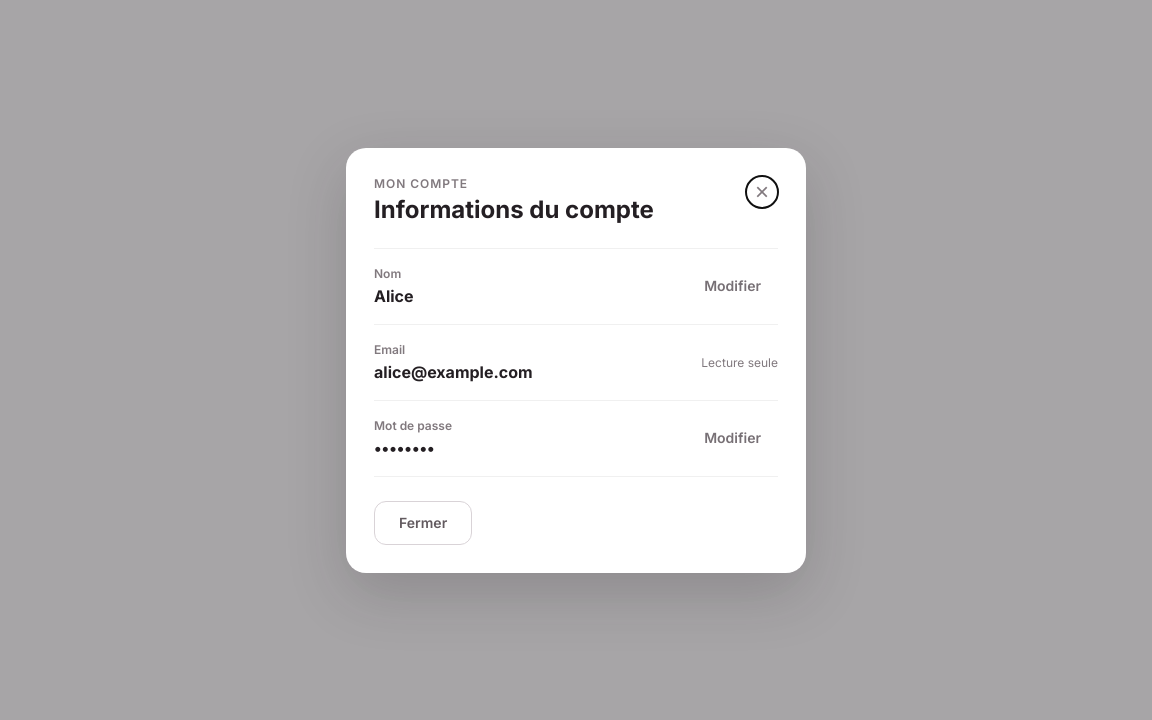
Test: AccountInfoModal › valide la confirmation et efface les mots de passe après un succès
Click the button "Modifier" in the row of "Mot de passe" at (733, 438), box x1=687 y1=416 x2=778 y2=460
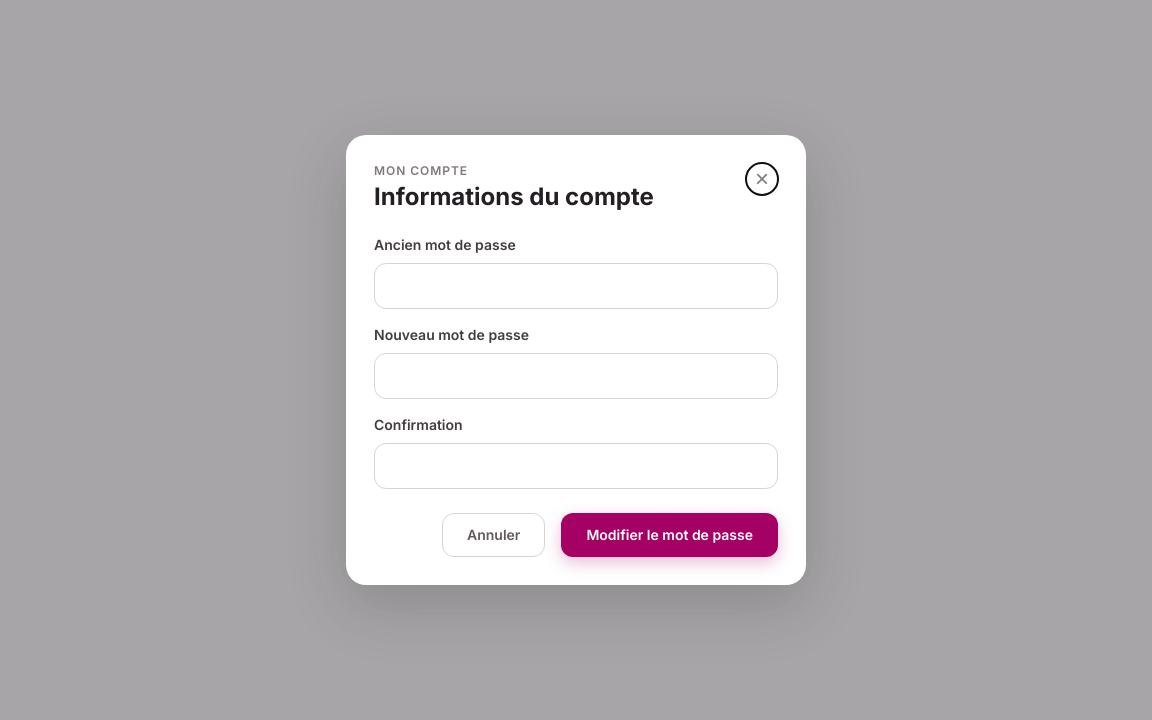
Type "ancien" into the password field labelled "Ancien mot de passe" at (576, 286), box x1=374 y1=263 x2=778 y2=309
Type "nouveau123" into the password field labelled "Nouveau mot de passe" at (576, 376), box x1=374 y1=353 x2=778 y2=399
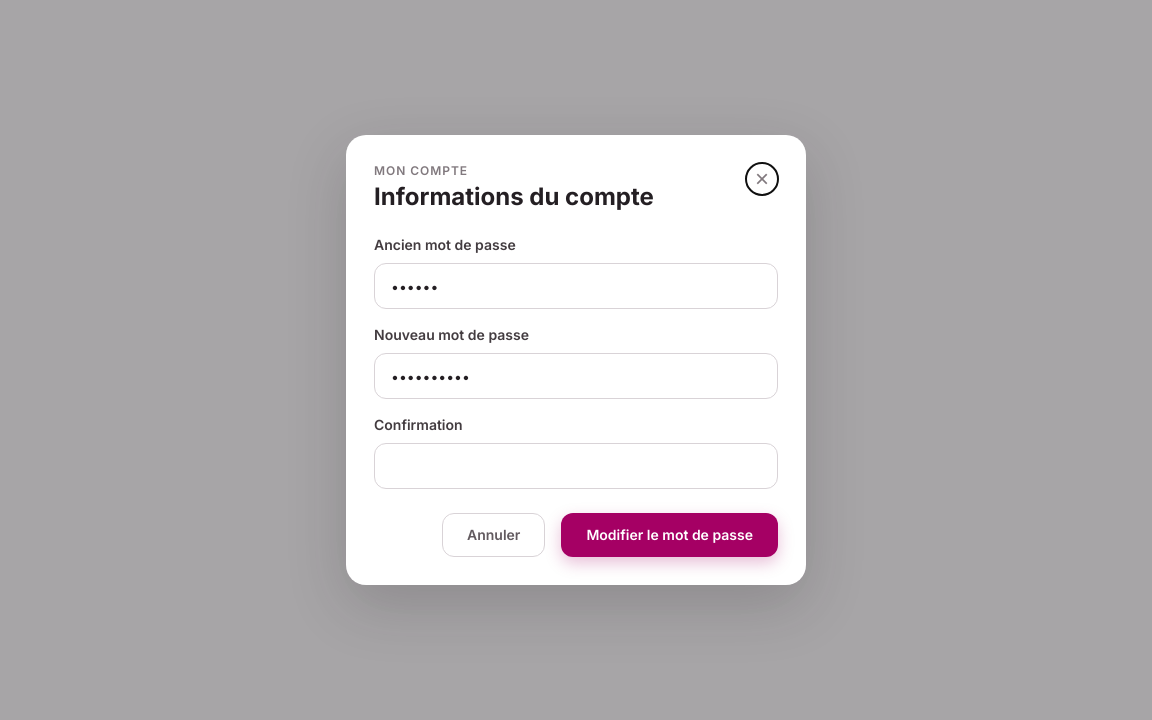
Type "different" into the password field labelled "Confirmation" at (576, 466), box x1=374 y1=443 x2=778 y2=489
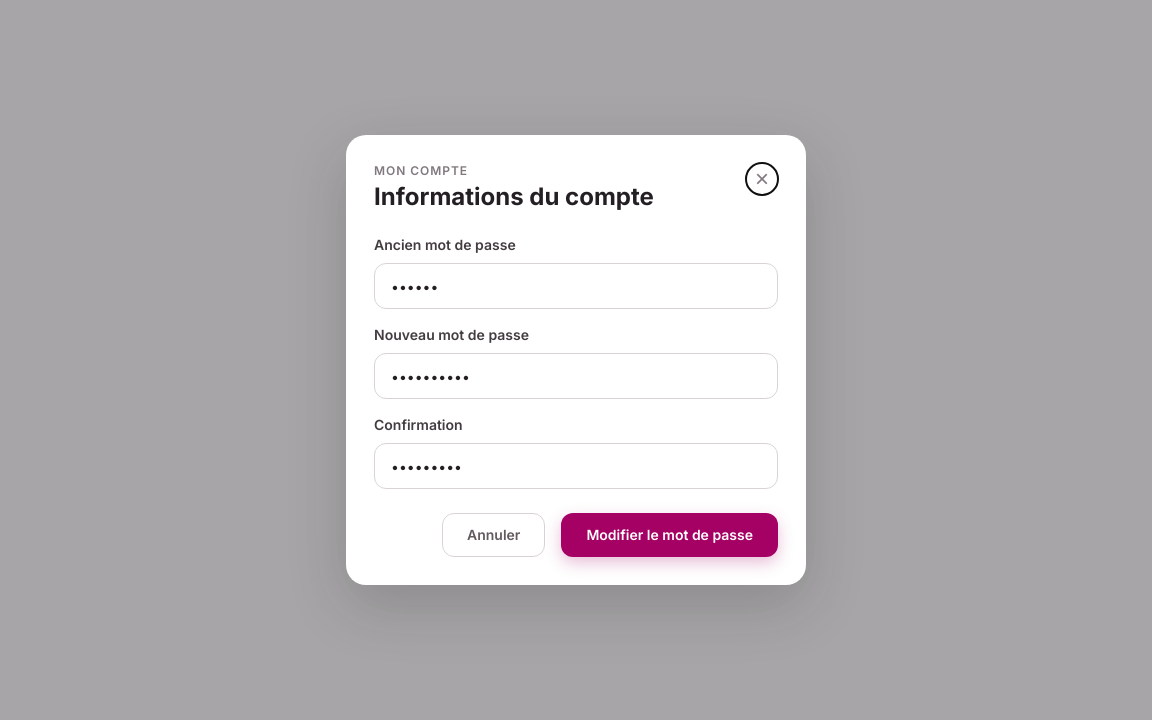
Click the button "Modifier le mot de passe" at (670, 535), box x1=561 y1=513 x2=778 y2=557
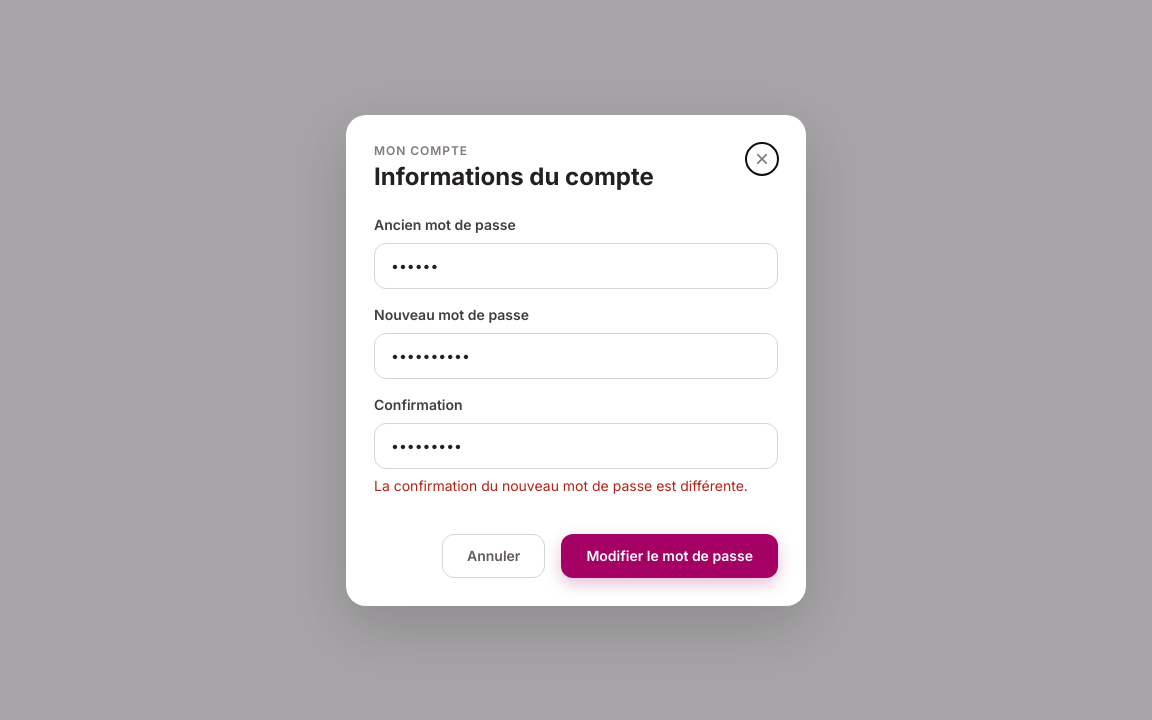
Result: the message shows "confirmation" at x1=374 y1=476 x2=748 y2=494
Type "nouveau123" into the password field labelled "Confirmation" at (576, 446), box x1=374 y1=422 x2=778 y2=468
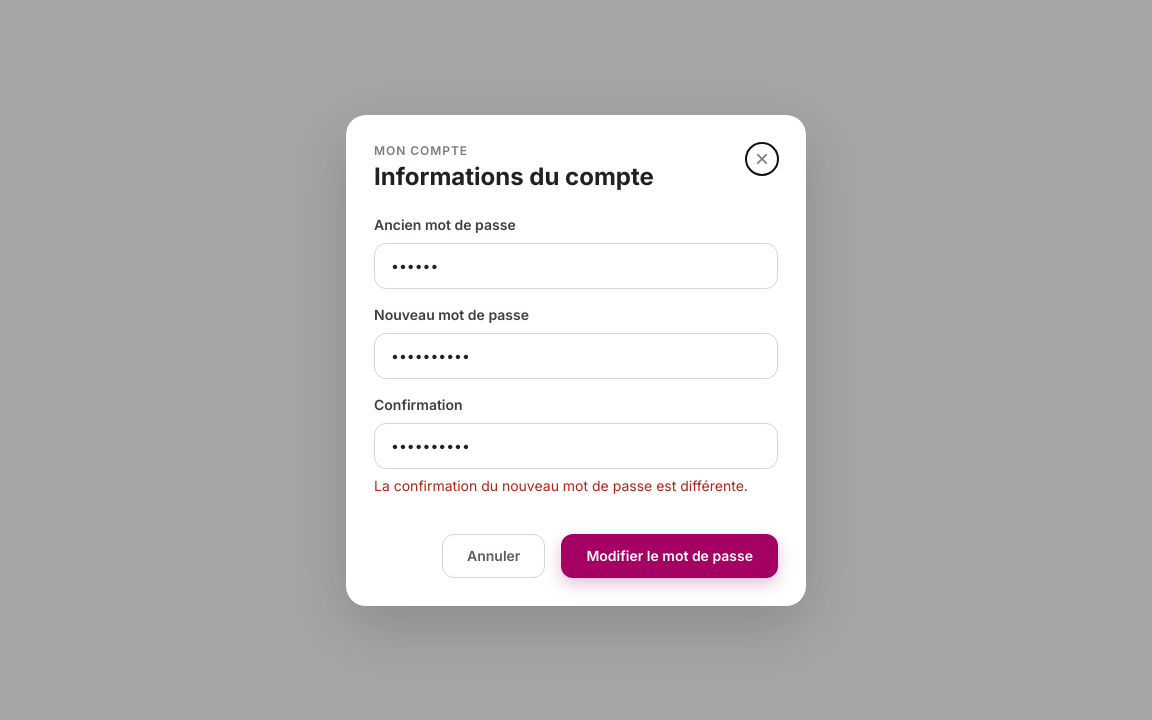
Click the button "Modifier le mot de passe" at (670, 556), box x1=561 y1=534 x2=778 y2=578
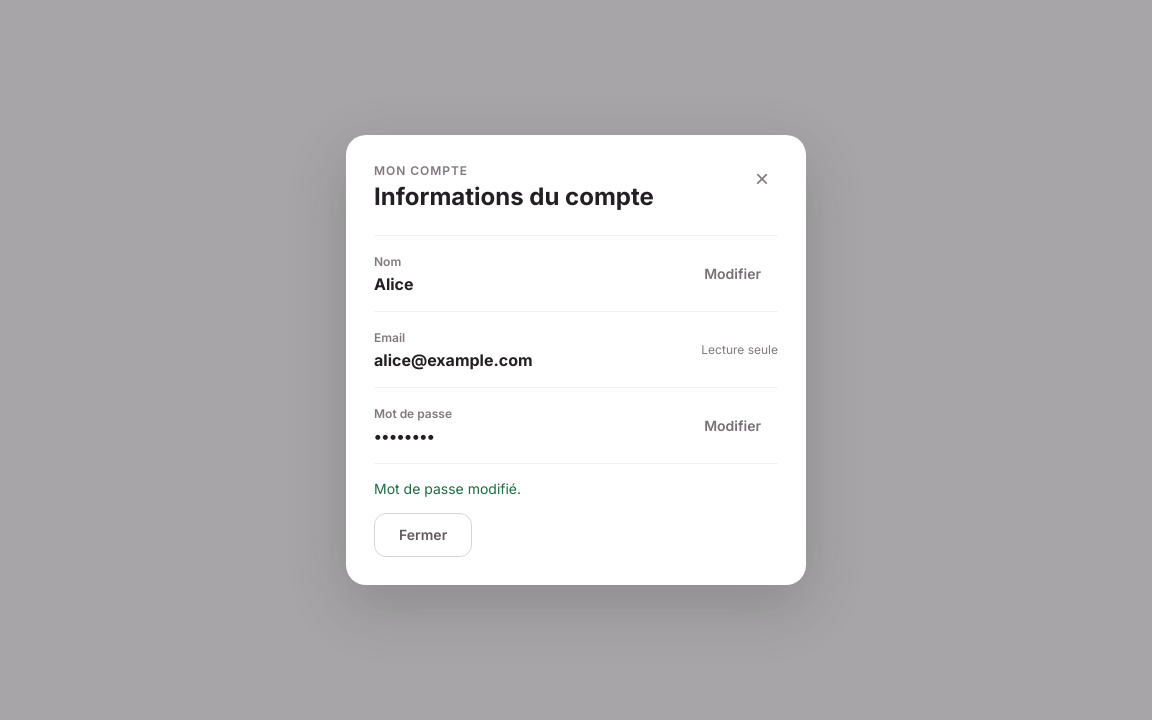
Result: the label showing "ancien" is gone
Result: the message reads "Mot de passe modifié." at x1=374 y1=480 x2=521 y2=497
